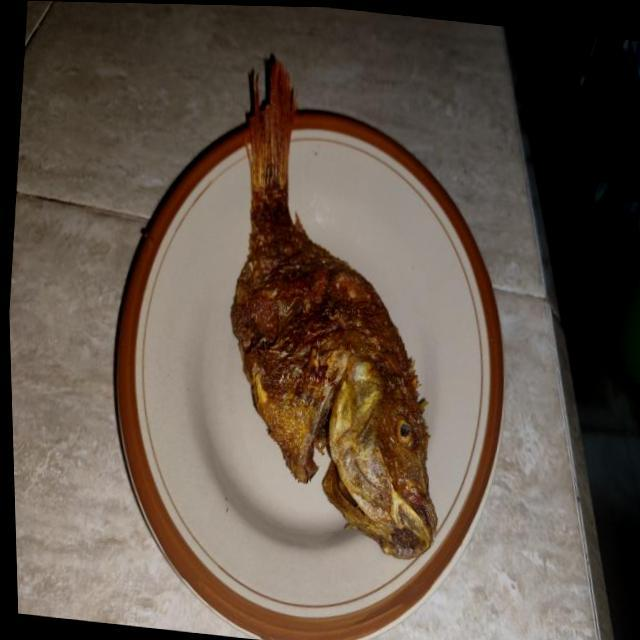ikan_mujair: (230, 55, 437, 558)
